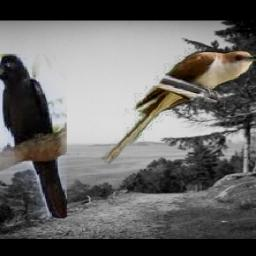Crow: (0, 54, 67, 219)
Cuckoo: (103, 48, 256, 164)
